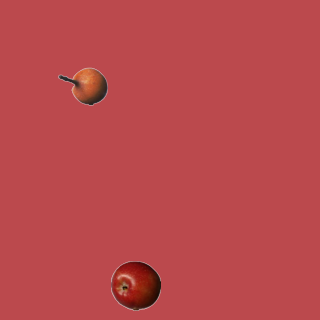Apple Braeburn: (110, 260, 160, 310)
Granadilla: (57, 61, 107, 111)
